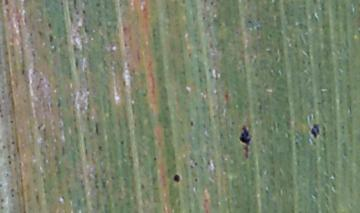tarspot: (238, 125, 253, 161), (308, 123, 320, 140), (93, 121, 100, 139), (172, 172, 180, 183), (187, 119, 195, 129), (71, 1, 79, 10), (138, 182, 146, 191), (152, 154, 158, 164), (118, 139, 126, 146), (96, 144, 104, 151), (192, 160, 199, 168), (48, 33, 53, 44), (9, 192, 16, 199), (94, 2, 101, 9), (47, 22, 53, 30), (8, 119, 15, 125), (6, 160, 14, 165), (9, 187, 15, 193), (3, 1, 10, 6), (189, 164, 194, 171), (180, 1, 187, 6), (209, 1, 214, 7), (6, 154, 12, 159), (10, 140, 15, 146), (1, 144, 7, 149), (59, 1, 64, 7), (81, 8, 85, 15), (201, 15, 205, 22), (1, 197, 5, 202), (1, 205, 6, 209)
